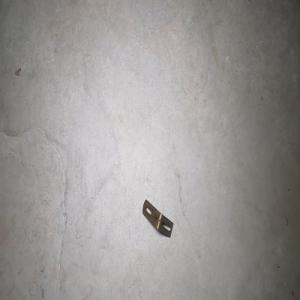MetalPart: (141, 198, 173, 238)
